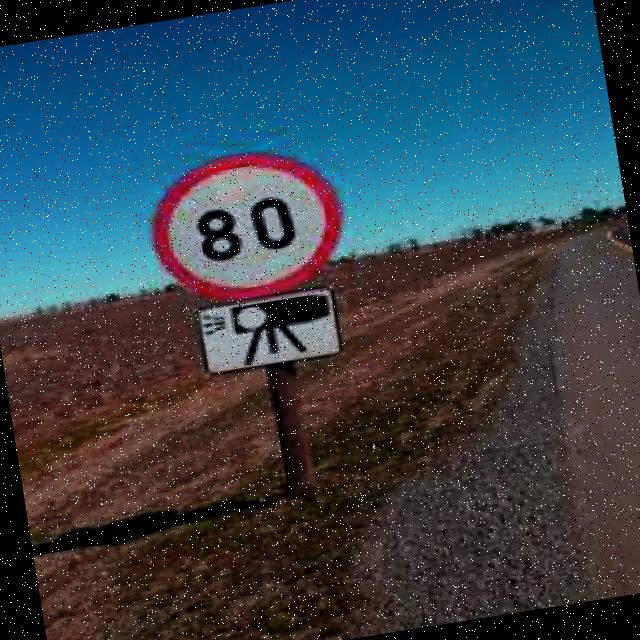Ograniczenie predkosci do 80: (144, 142, 346, 312)
